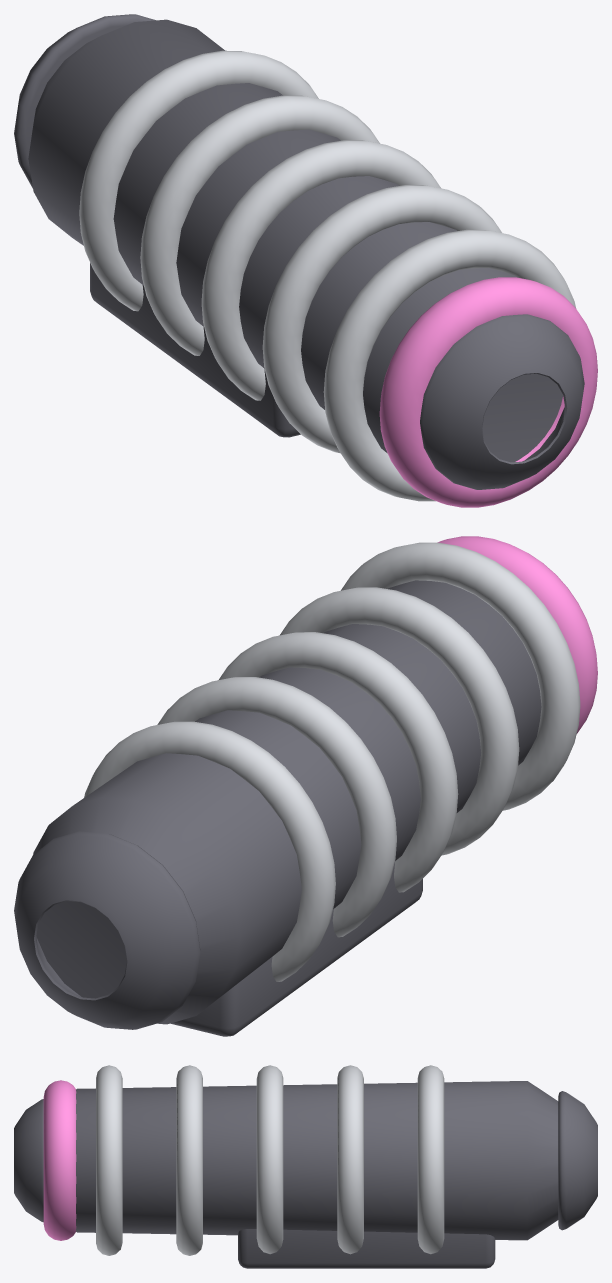
The model's file is CanonPulso.fbx.
3 views of the same model, one above another, from view 1: azimuth 30°, elevation 25°; view 2: azimuth 150°, elevation 25°; view 3: azimuth 270°, elevation 25° (orthographic). The views are drawn at different scales.
Visible parts, largest first — view 1: Cuerpo del canon, Bobinas, Boca; view 2: Cuerpo del canon, Bobinas, Boca; view 3: Cuerpo del canon, Bobinas, Boca.
Boxes of the visible parts, box(x1,y1,x2,y2) form: Cuerpo del canon: box(14, 14, 584, 489); Bobinas: box(79, 50, 576, 501); Boca: box(379, 277, 597, 507); Cuerpo del canon: box(14, 580, 541, 1036); Bobinas: box(84, 542, 580, 981); Boca: box(437, 536, 597, 733); Cuerpo del canon: box(14, 1081, 597, 1268); Bobinas: box(96, 1065, 444, 1255); Boca: box(43, 1080, 76, 1240).
Size of the model in its own units: 0.1187 by 0.1193 by 0.3631.
